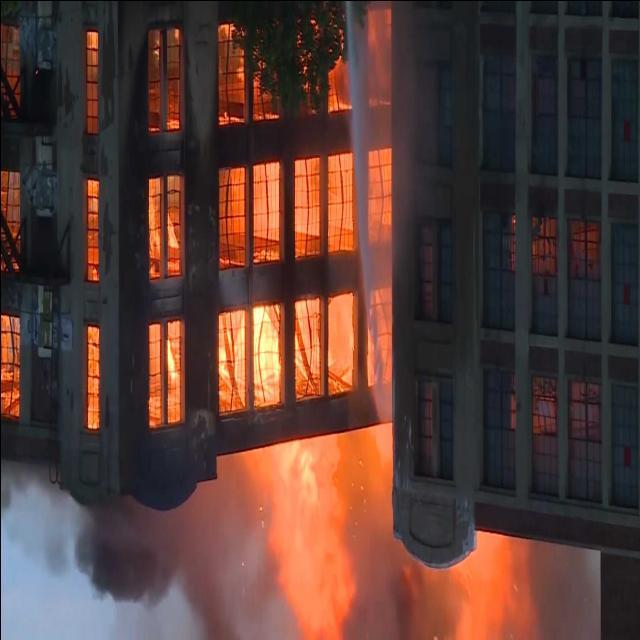Fire: (31, 56, 392, 604)
